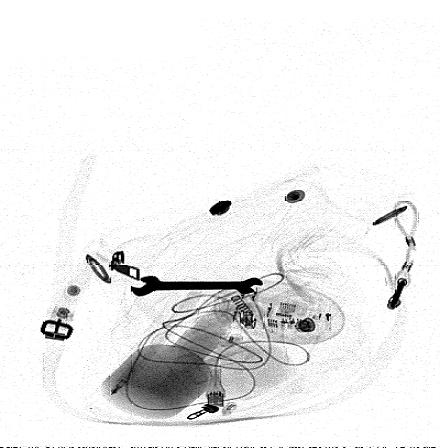Wrench: (131, 274, 265, 297)
